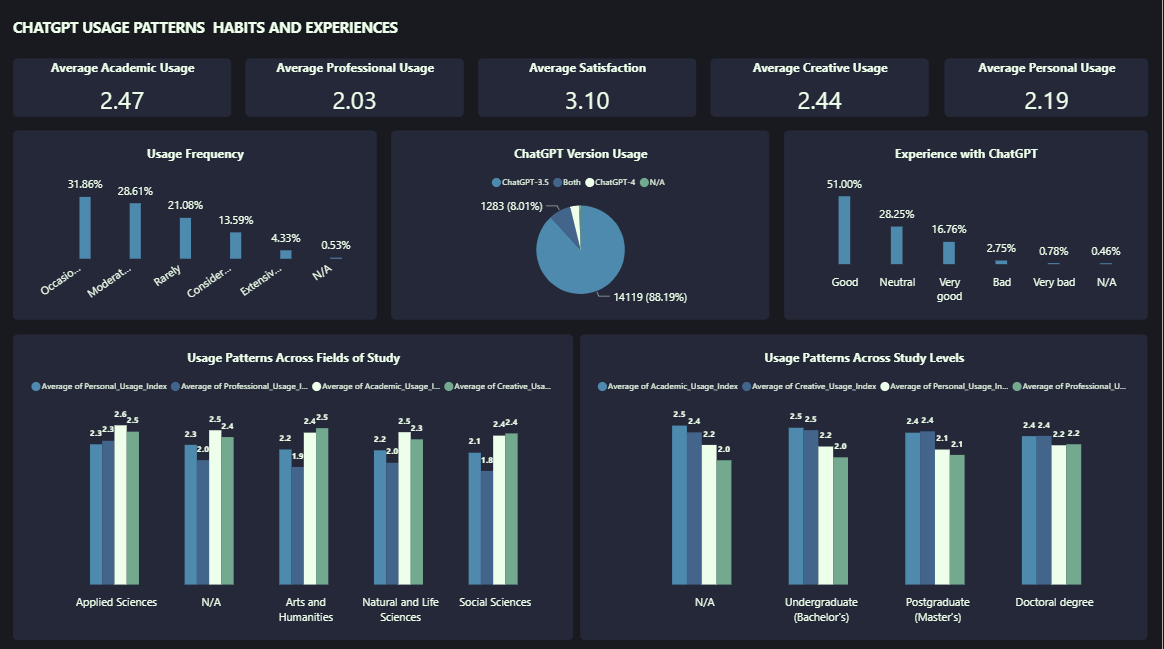

Layout of this report page (visuals, bound fields, positions):
{"tool":"powerbi","page":{"name":"Usage","canvas":[1280,720],"ordinal":1},"visuals":[{"type":"clusteredColumnChart","title":"Usage Patterns Across Study Levels","fields":{"Category":["df_socio.Study_Level"],"Y":["Avg(df_usage.Academic_Usage_Index)","Avg(df_usage.Creative_Usage_Index)","Avg(df_usage.Personal_Usage_Index)","Avg(df_usage.Professional_Usage_Index)"]},"box":[640,368,624,336],"z":8031},{"type":"clusteredColumnChart","title":"Usage Patterns Across Fields of Study","fields":{"Category":["df_socio.Field_of_Study"],"Y":["Avg(df_usage.Personal_Usage_Index)","Avg(df_usage.Professional_Usage_Index)","Avg(df_usage.Academic_Usage_Index)","Avg(df_usage.Creative_Usage_Index)"]},"box":[16,368,616,336],"z":8062},{"type":"columnChart","title":"Experience with ChatGPT","fields":{"Category":["df_usage.Experience_with_ChatGPT"],"Y":["Divide(df_socio.Total_Students, ScopedEval(df_socio.Total_Students, []))"]},"box":[864,144,400,208],"z":8125},{"type":"pieChart","title":" ChatGPT Version Usage","fields":{"Category":["df_usage.ChatGPT_Version"],"Y":["df_socio.Total_Students"]},"box":[432,144,416,208],"z":8250},{"type":"columnChart","title":"Usage Frequency","fields":{"Category":["df_usage.General_Usage_Frequency"],"Y":["df_socio.Total_Students"]},"box":[16,144,400,208],"z":8500},{"type":"card","title":"Average Personal  Usage","fields":{"Values":["df_usage.Average_Personal _Usage"]},"box":[1040,64,224,64],"z":9000},{"type":"card","title":"Average Creative Usage","fields":{"Values":["df_usage.Average_Creative_Usage"]},"box":[784,64,240,64],"z":11000},{"type":"card","title":"Average Satisfaction","fields":{"Values":["df_satisfaction.Average_Satisfaction"]},"box":[528,64,240,64],"z":12000},{"type":"card","title":"Average Professional  Usage","fields":{"Values":["df_usage.Average_professional_usage"]},"box":[272,64,240,64],"z":13000},{"type":"card","title":"Average Academic Usage","fields":{"Values":["df_usage.Average_academic_usage"]},"box":[16,64,240,64],"z":14000},{"type":"textbox","box":[16,16,992,48],"z":15000}]}

Visuals, with their boxes in screenshot pixels (x1, y1, x2, y2), scaled from the page's 1280x720 canvas onto the 1164x649 screenshot:
"Usage Patterns Across Study Levels" clusteredColumnChart: detection(582, 332, 1149, 635)
"Usage Patterns Across Fields of Study" clusteredColumnChart: detection(15, 332, 575, 635)
"Experience with ChatGPT" columnChart: detection(786, 130, 1149, 317)
" ChatGPT Version Usage" pieChart: detection(393, 130, 771, 317)
"Usage Frequency" columnChart: detection(15, 130, 378, 317)
"Average Personal  Usage" card: detection(946, 58, 1149, 115)
"Average Creative Usage" card: detection(713, 58, 931, 115)
"Average Satisfaction" card: detection(480, 58, 698, 115)
"Average Professional  Usage" card: detection(247, 58, 466, 115)
"Average Academic Usage" card: detection(15, 58, 233, 115)
textbox: detection(15, 14, 917, 58)
